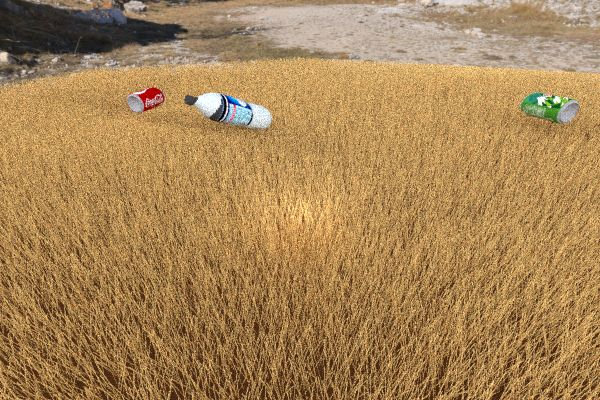bottle: (184, 92, 272, 130)
can: (520, 92, 579, 124), (126, 87, 165, 113)
